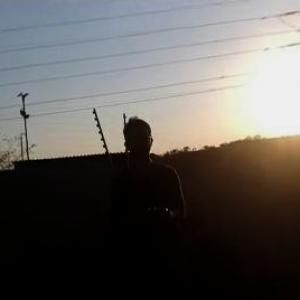follow: (105, 111, 189, 299)
